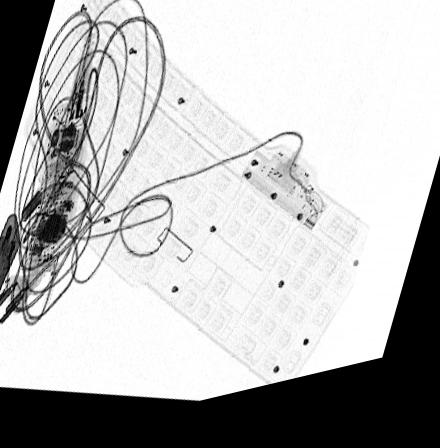Lighter: (0, 212, 22, 290)
